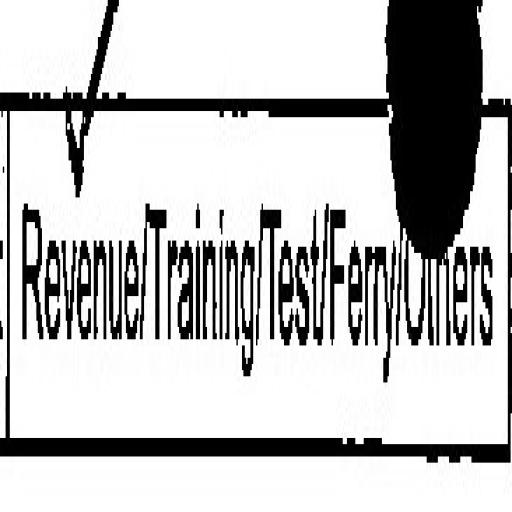check: (11, 0, 146, 475)
